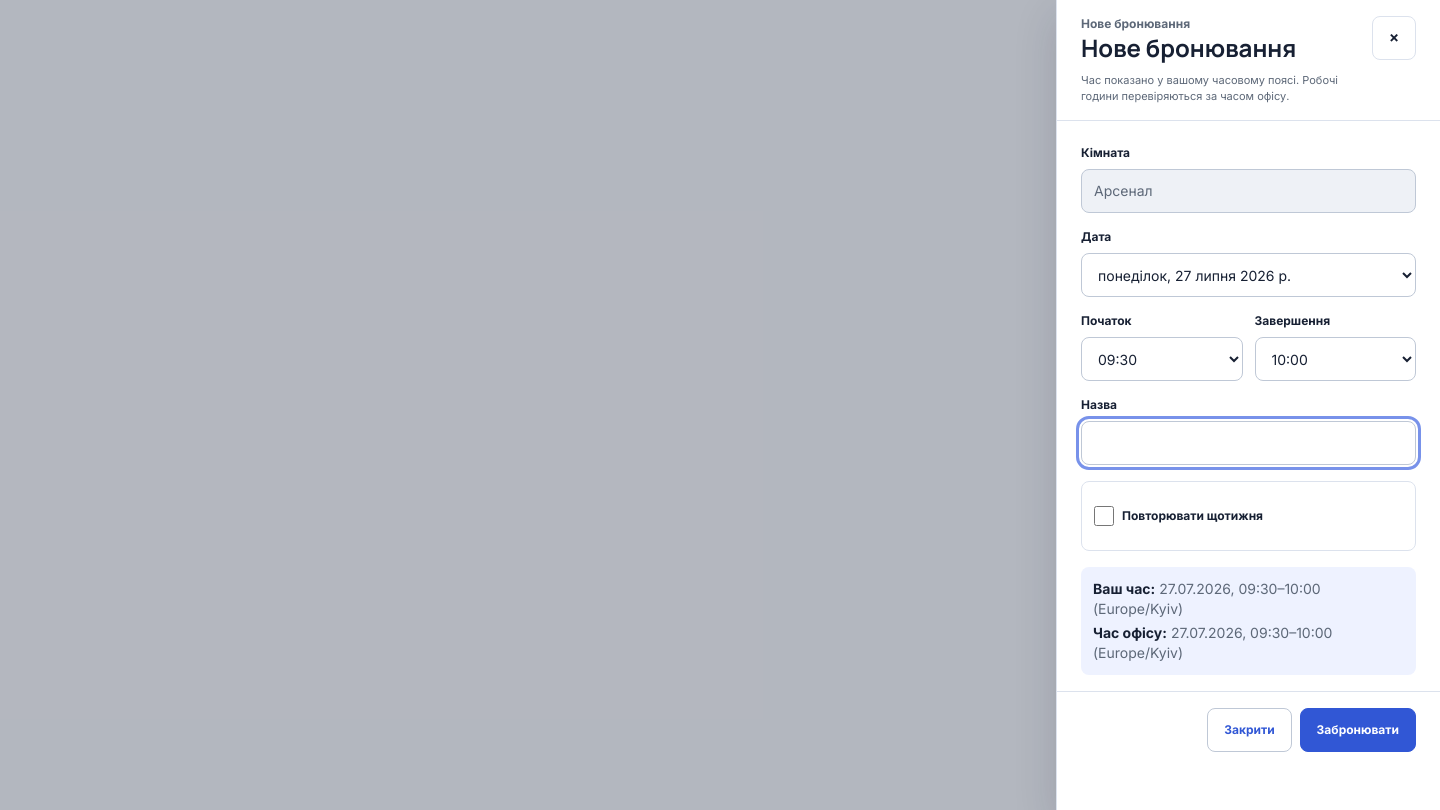
it: BookingSheet › keeps the form open and focused when email verification is required
Type "Важлива зустріч" into the field labelled "Назва".
click(1248, 443); type("Важлива зустріч")  # box [1081,421,1416,465]
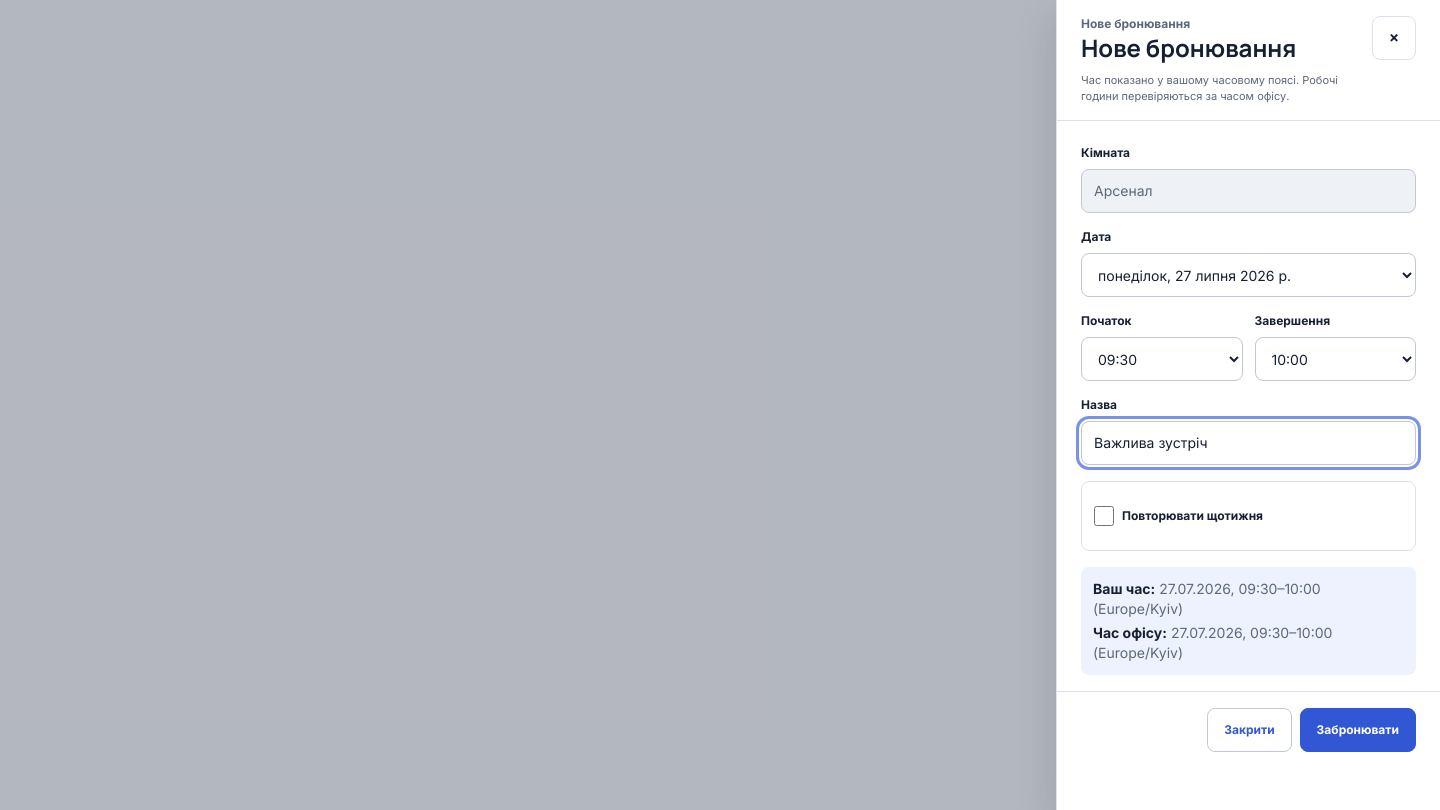
Select "10:30" in the dropdown labelled "Завершення" at (1335, 359), box [1254,337,1416,381]
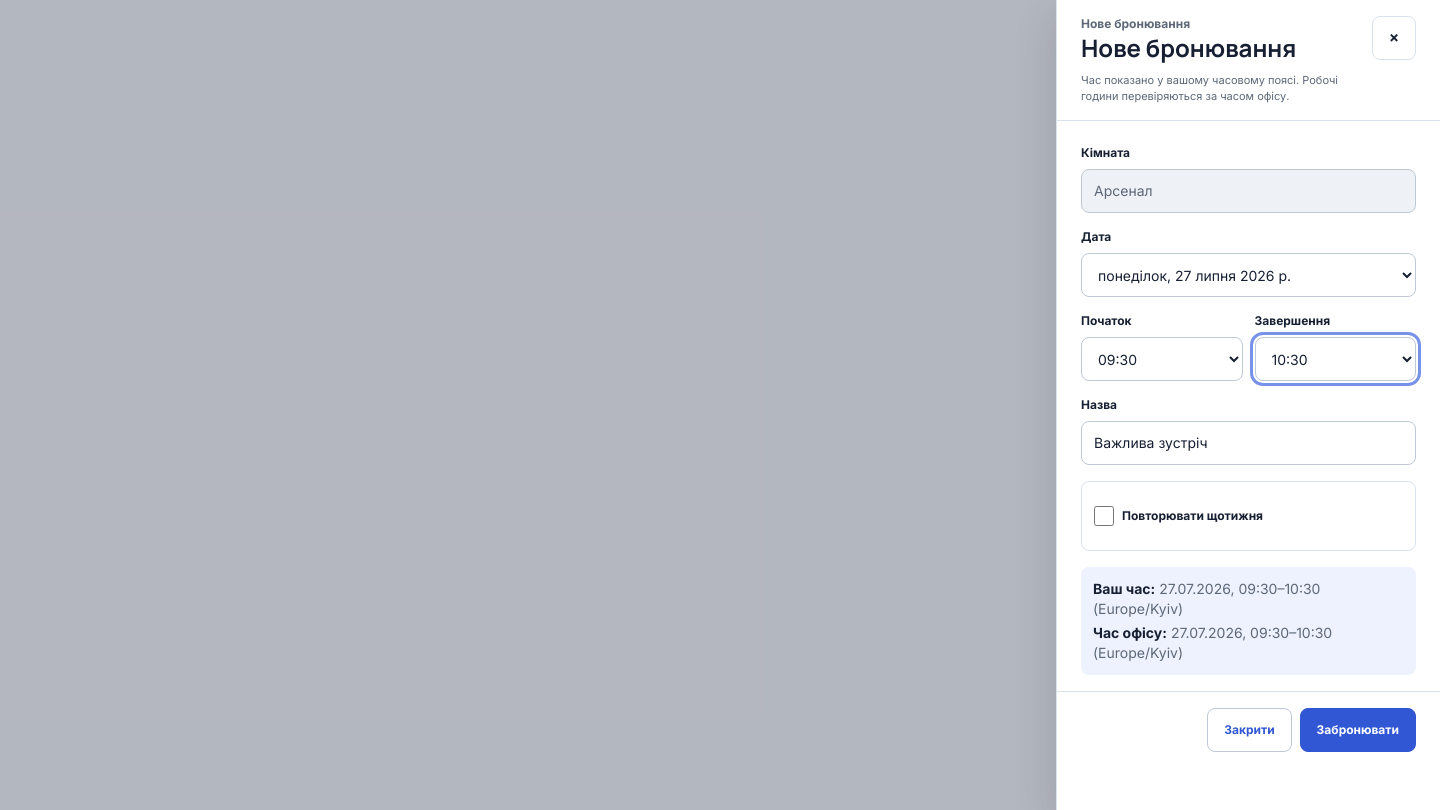
Click the button "Забронювати".
click(1358, 730)  # box [1300,708,1416,752]
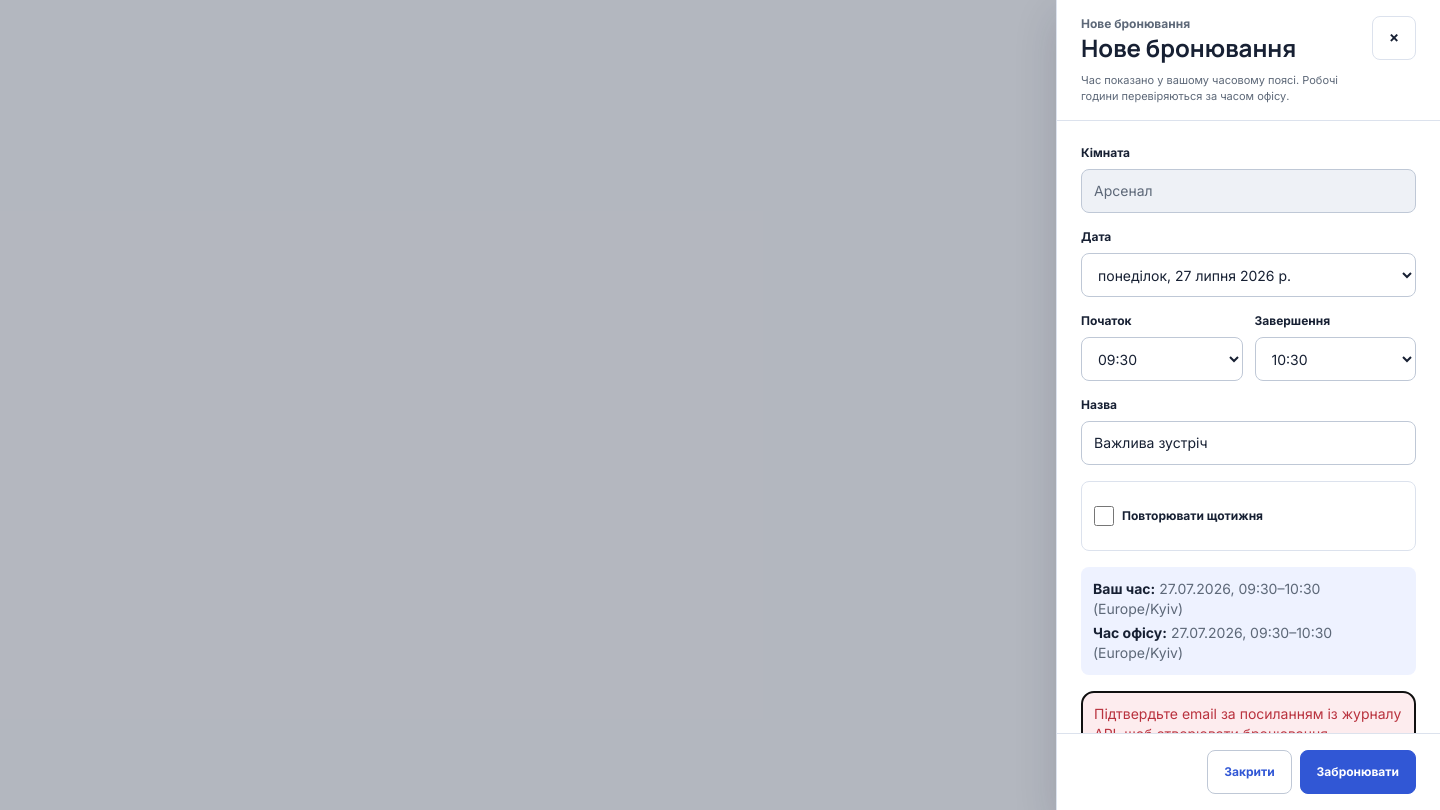
Expected: the dialog "Нове бронювання" is shown, [1056,0,1439,809]
Result: the message reads "Підтвердьте email за посиланням із журналу API, щоб створювати бронювання." at [1094,705,1401,742]
